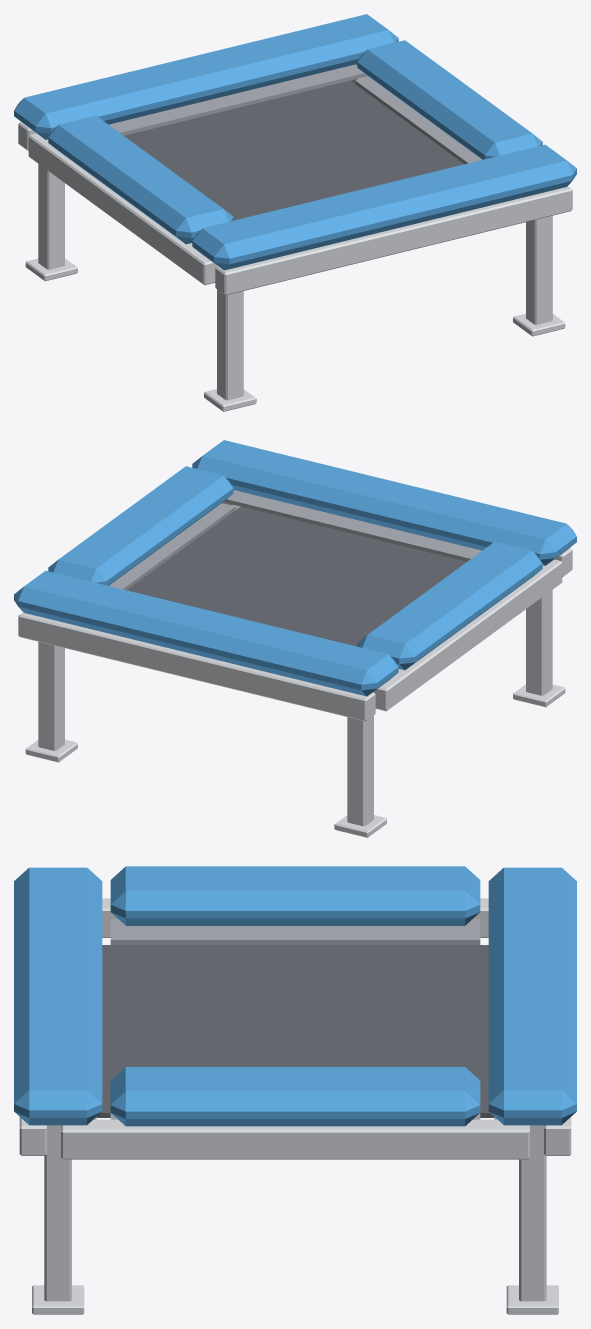
Rendered from trampoline-park-and-soft-play-trampoline-bed-module-59888a9a__34607.glb.
3 views of the same model, one above another, from view 1: azimuth 30°, elevation 25°; view 2: azimuth 150°, elevation 25°; view 3: azimuth 270°, elevation 25° (orthographic). The views are drawn at different scales.
Parts seen in each view (by area): view 1: trampoline-bed-module; view 2: trampoline-bed-module; view 3: trampoline-bed-module.
Boxes of the visible parts, bbox=[...] form: trampoline-bed-module: bbox=[14, 14, 576, 411]; trampoline-bed-module: bbox=[14, 440, 576, 837]; trampoline-bed-module: bbox=[14, 866, 576, 1314].
Bounding box in the file's own units: 2.04 × 0.8999 × 2.04.
